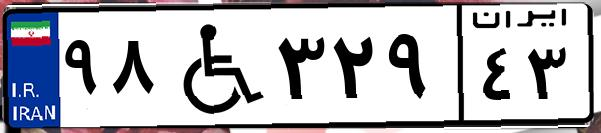2: (330, 28, 385, 110)
3: (270, 28, 330, 110), (525, 38, 570, 115)
4: (475, 38, 525, 113)
8: (110, 28, 158, 98)
9: (385, 28, 445, 110), (57, 26, 110, 100)
ژ (معلولین و جانبازان): (158, 12, 270, 120)
